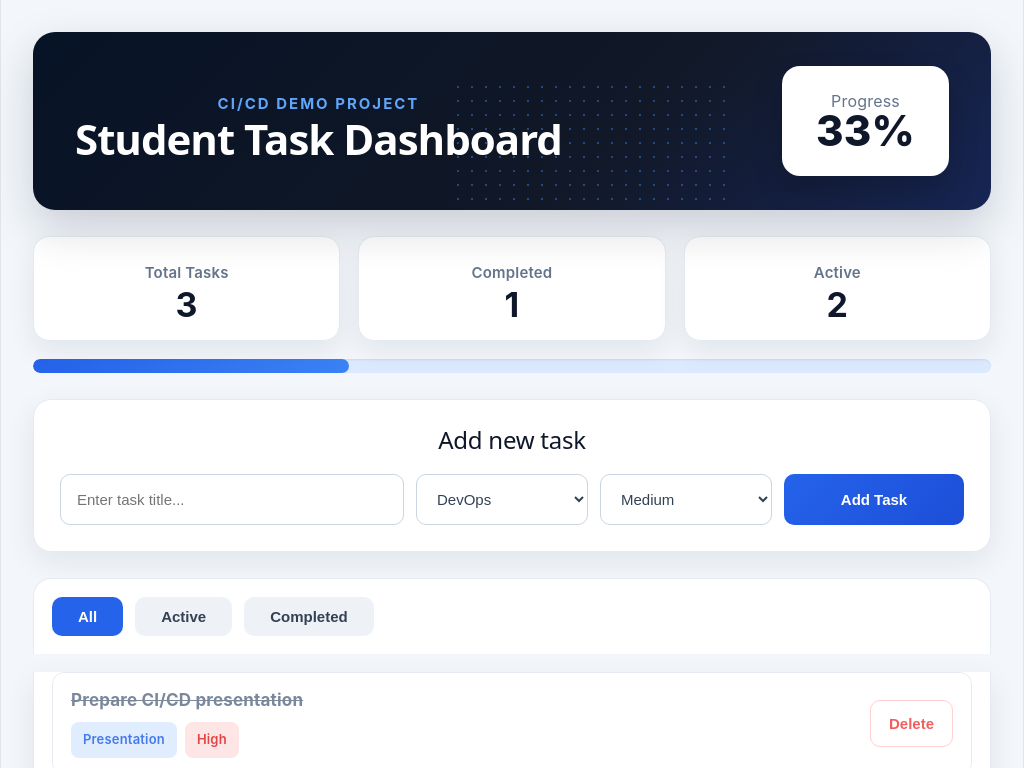
Test case: deletes a task
What coordinates should you click on to do the following:
click the button "Delete"
I would click on:
 (912, 723)
Its box is [870, 700, 953, 747].
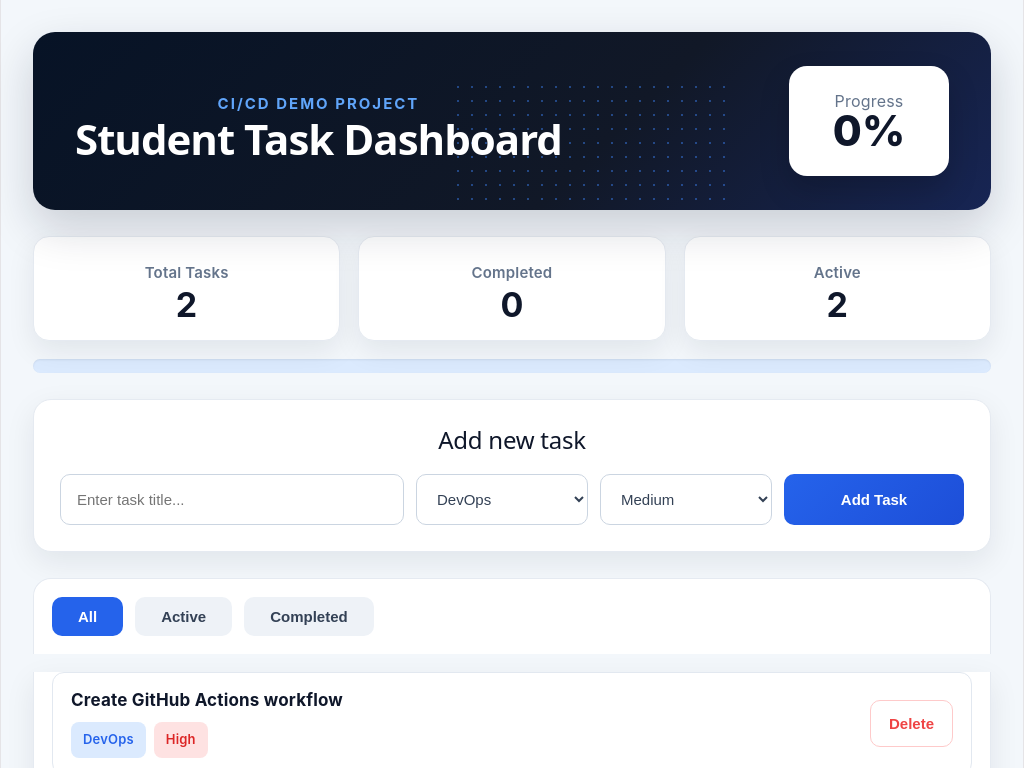
Check: the heading "Prepare CI/CD presentation" is gone
